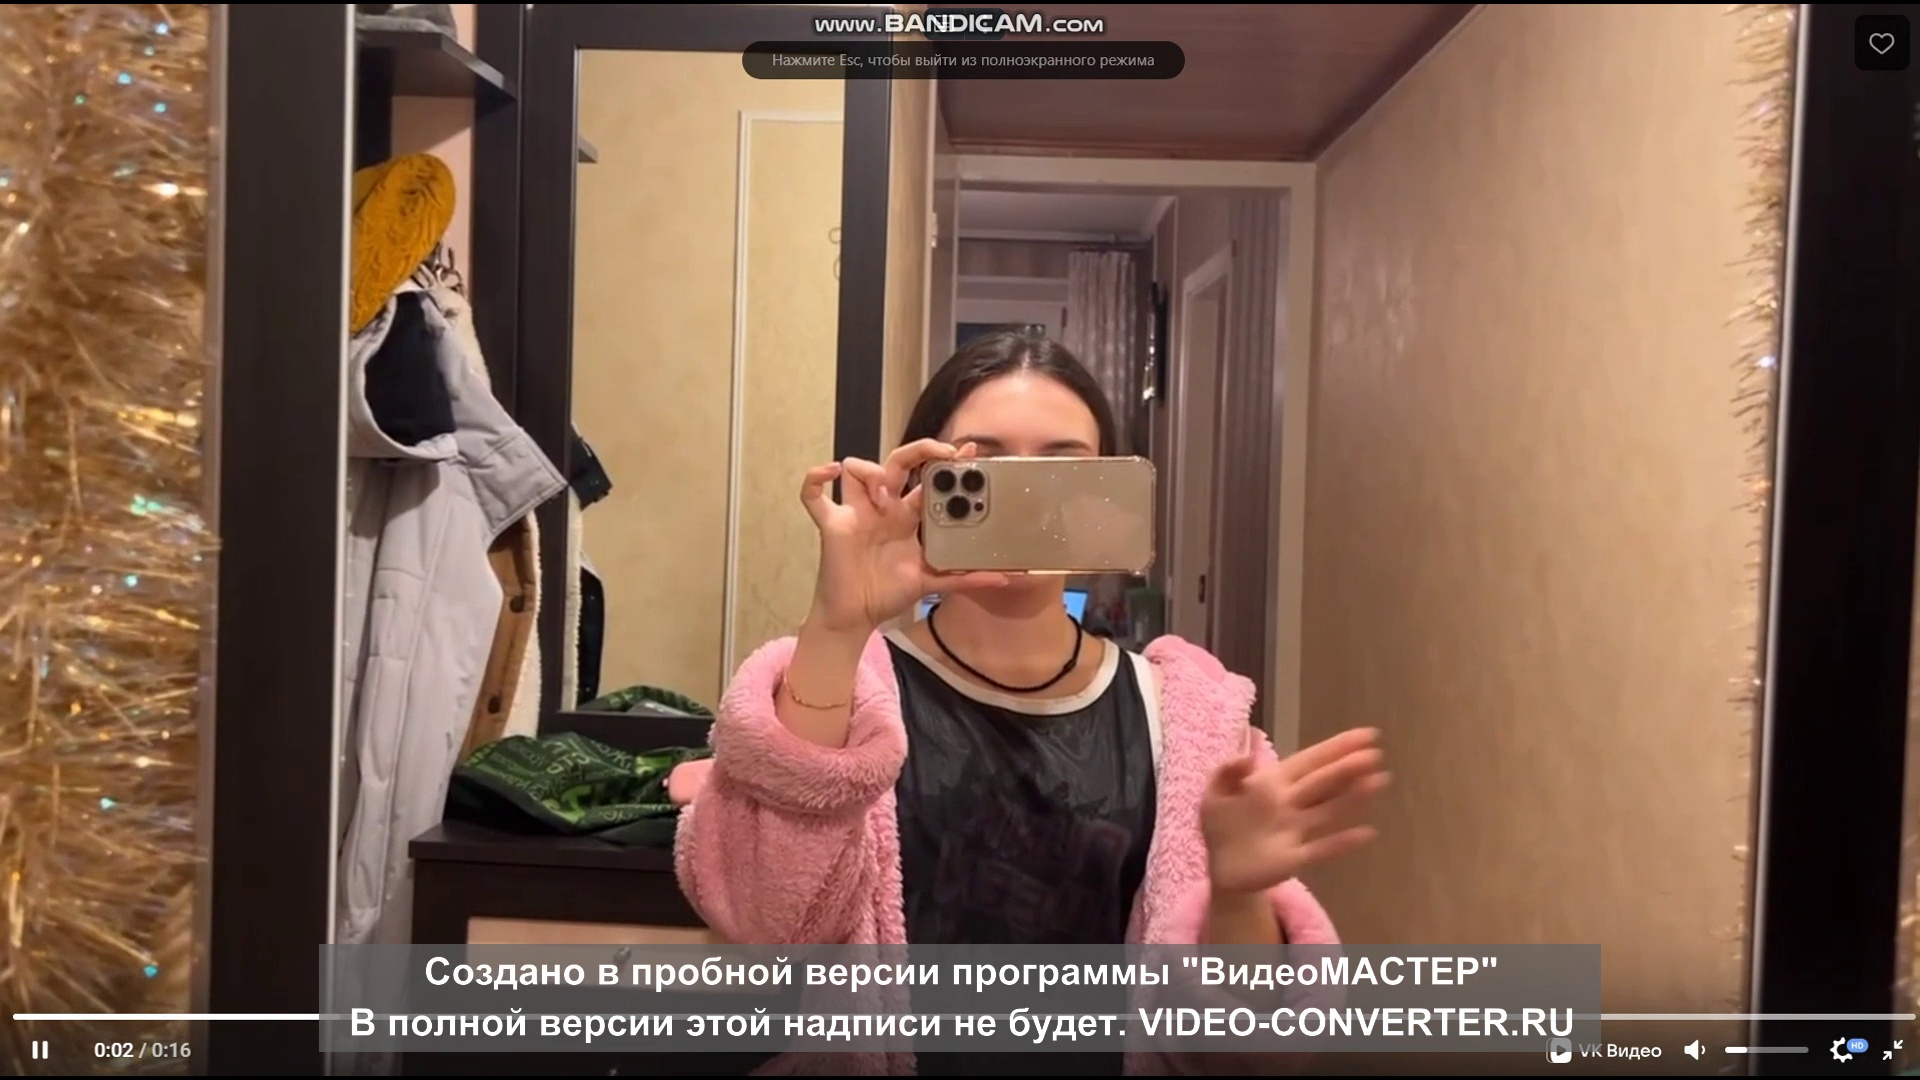Ладонь: (1196, 728, 1389, 882)
